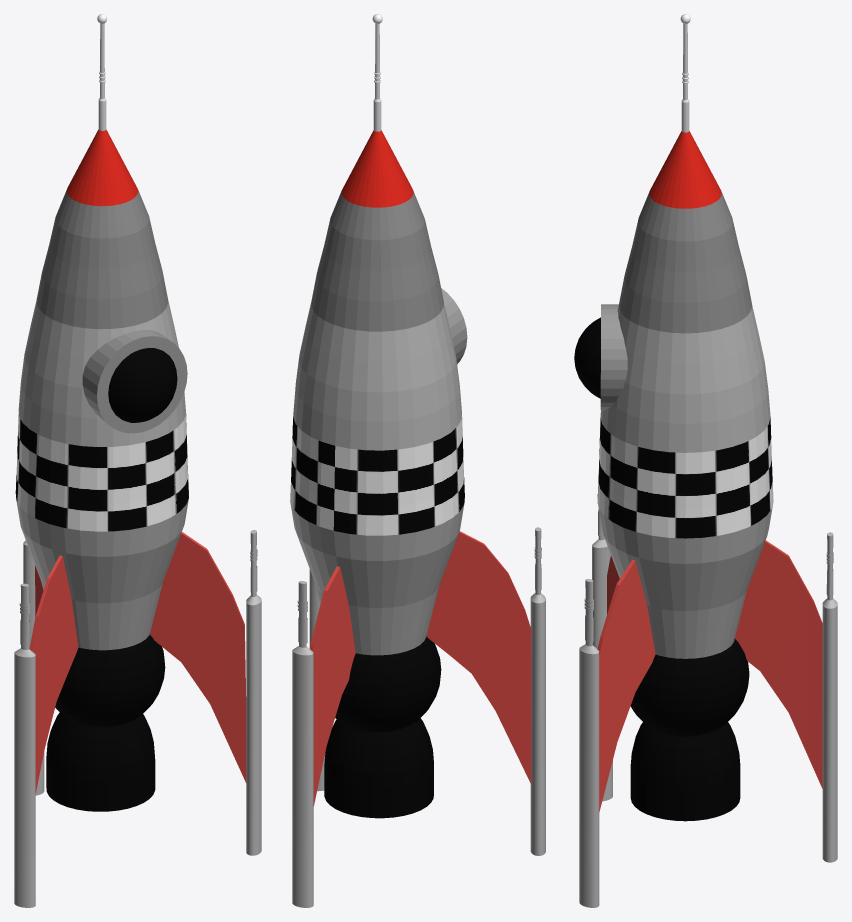
File: rocket-transformed.glb
The picture shows the model from 3 angles, left to right: view 1: azimuth 30°, elevation 25°; view 2: azimuth 150°, elevation 25°; view 3: azimuth 270°, elevation 25°; orthographic projection.
Visible parts, largest first — view 1: Object_6, Object_4, Object_8; view 2: Object_6, Object_4, Object_8; view 3: Object_6, Object_4, Object_8.
Boxes of the visible parts, box(x1,y1,x2,y2) form: Object_6: box(14, 190, 261, 907); Object_4: box(29, 23, 246, 811); Object_8: box(15, 412, 188, 531); Object_6: box(290, 191, 545, 907); Object_4: box(309, 23, 531, 818); Object_8: box(290, 415, 464, 535); Object_6: box(579, 191, 837, 907); Object_4: box(574, 23, 822, 821); Object_8: box(597, 417, 773, 538).
Size of the model in its own units: 1.35 by 4.51 by 1.28.
4 materials, 4 textured.
